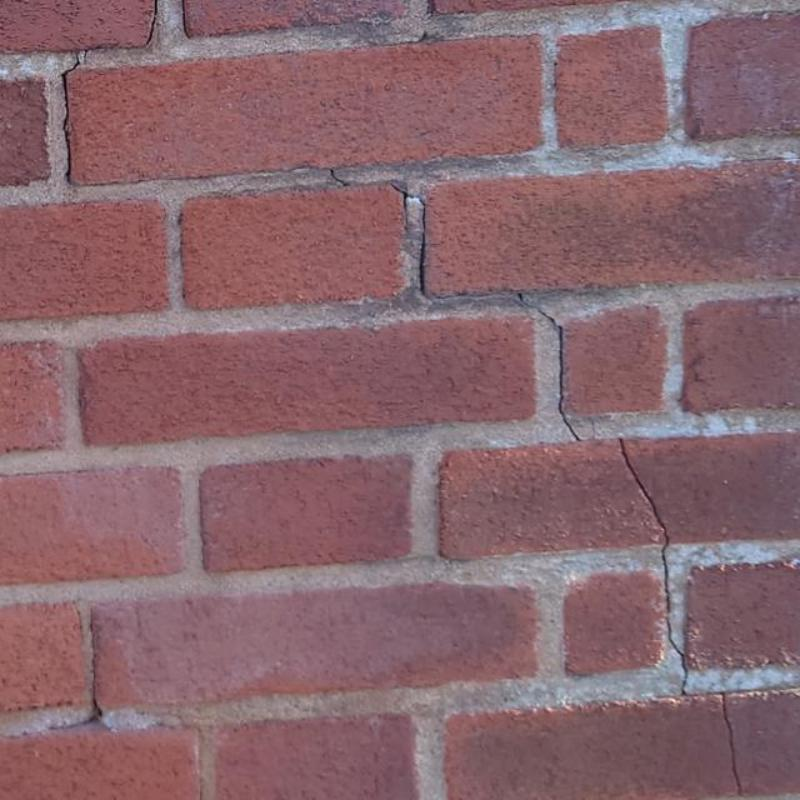crack: (618, 436, 692, 698), (517, 291, 583, 442), (704, 690, 744, 798), (61, 52, 81, 184), (390, 183, 414, 233), (418, 197, 426, 292), (145, 0, 159, 45), (325, 168, 352, 187), (86, 696, 102, 722), (84, 50, 89, 65)
